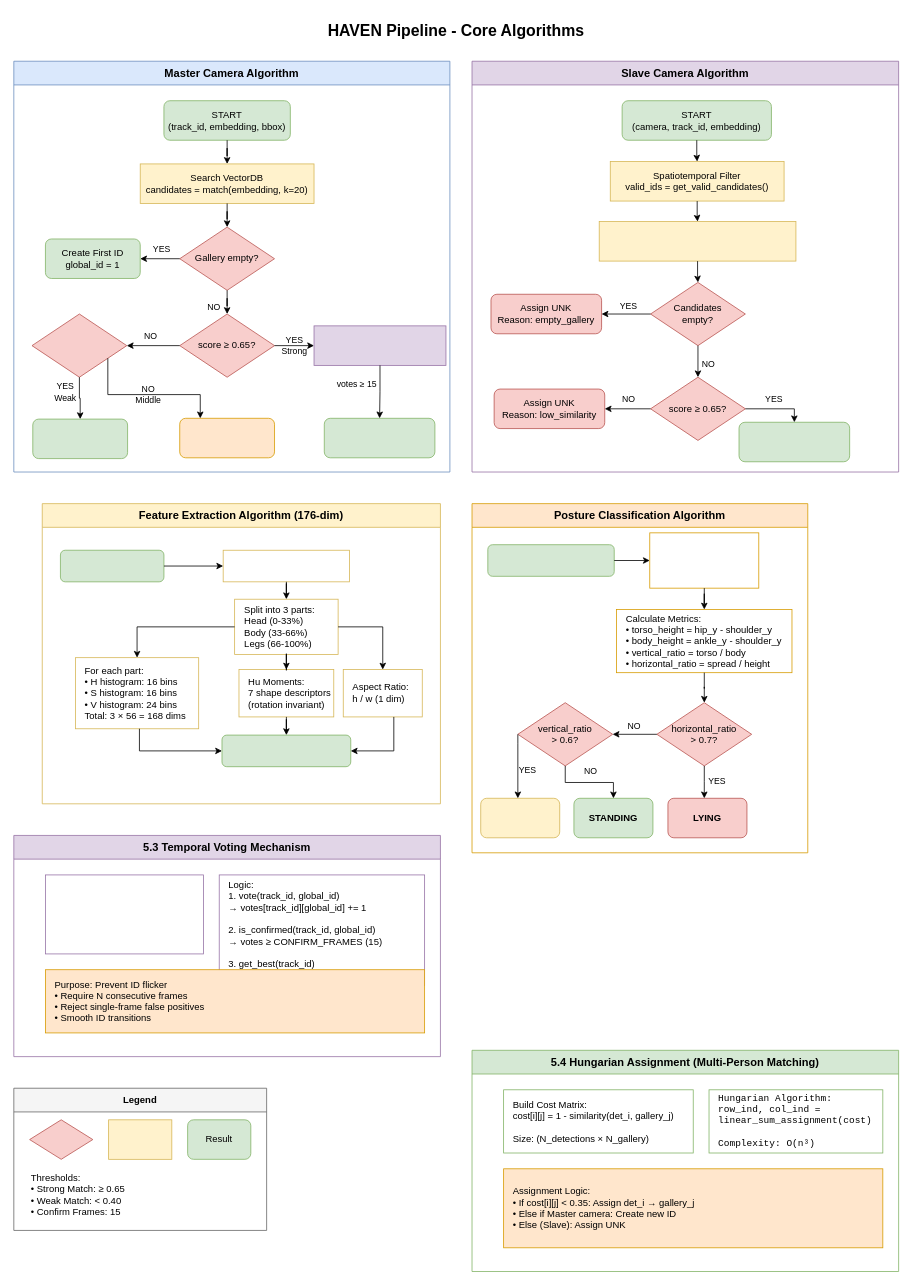
Image size: 912x1285. Some labels were removed from this diagram. Here are the shapes that lost their labels. From the top down, the centre of each, then its label:
At point (697, 241): "Search VectorDB candidates = match(embedding, valid_ids)".
At point (79, 345): "score < 0.40?".
At point (379, 345): "Temporal Voting votes[track_id][global_id] += 1".
At point (80, 438): "Create New ID global_id = next_id()".
At point (227, 438): "UNCERTAIN Need more frames".
At point (379, 438): "CONFIRMED Return global_id".
At point (794, 441): "MATCHED Return global_id".
At point (112, 565): "Input: crop (H, W, 3)".
At point (286, 565): "Convert BGR → HSV".
At point (550, 560): "Input: 17 keypoints (COCO)".
At point (704, 560): "Extract Key Points: • Shoulders (5, 6) • Hips (11, 12) • Ankles (15, 16)".
At point (286, 750): "L2 Normalize Output: 176-dim vector".
At point (520, 818): "SITTING".
At point (124, 914): "Data Structure: votes = { track_id: { global_id: count } }".
At point (61, 1139): "Decision Point".
At point (140, 1139): "Process".
